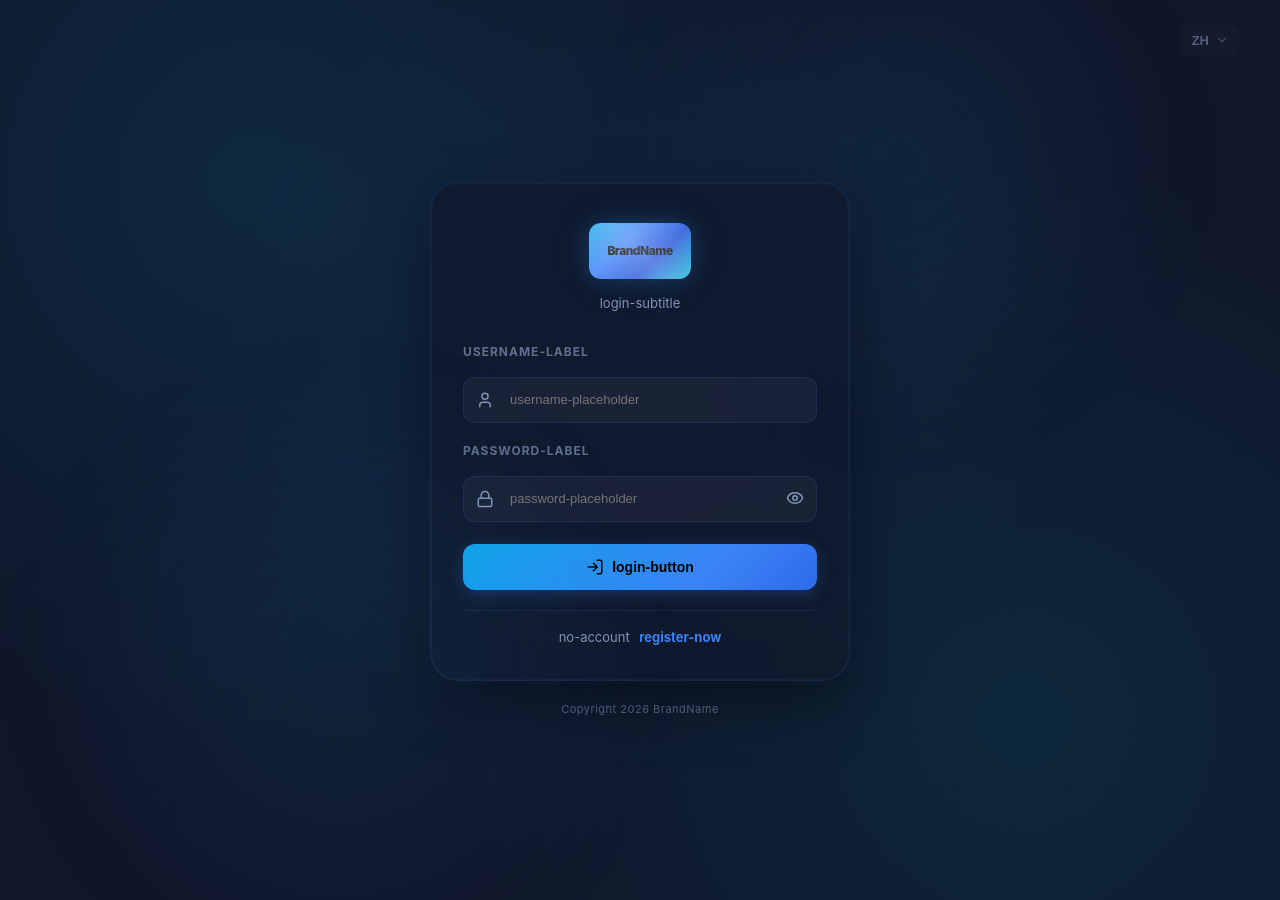
it: LoginPage › shows a validation error when username or password is missing
Click the button "login-button". click: (640, 567)
box: top-left (463, 544), bottom-right (817, 590)
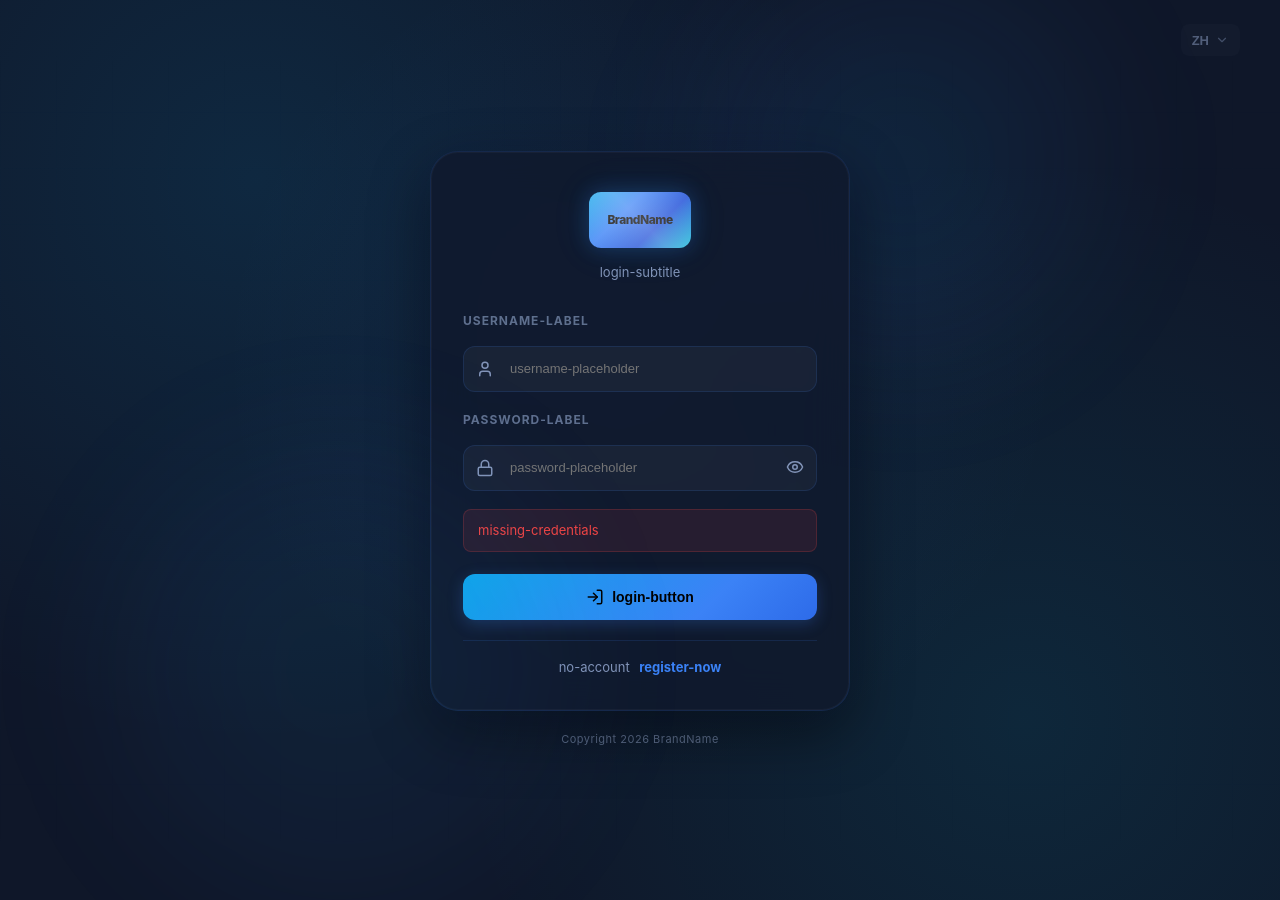
Result: the text "missing-credentials" is shown at top-left (463, 510), bottom-right (817, 552)
